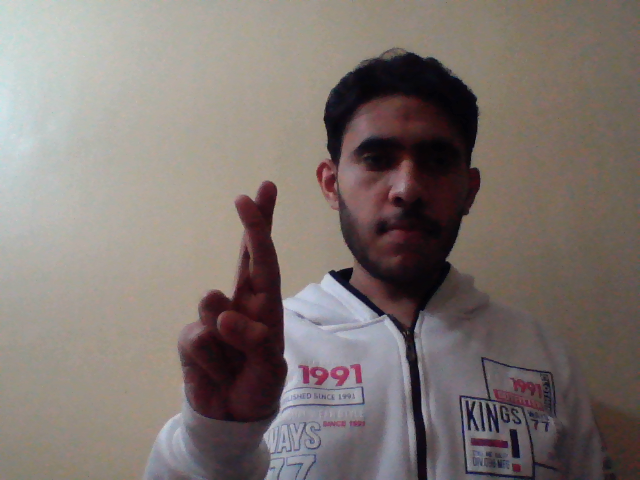R: (177, 178, 292, 432)
